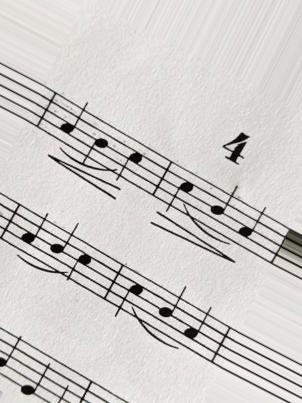A: (18, 203, 50, 266), (58, 95, 89, 157), (239, 201, 269, 264), (181, 298, 211, 359)
B: (150, 280, 187, 349), (47, 221, 80, 287), (81, 111, 111, 175), (207, 183, 234, 242)
E: (17, 341, 60, 402)
HC: (162, 159, 200, 219), (65, 235, 97, 295), (114, 261, 146, 319), (115, 131, 146, 190)
